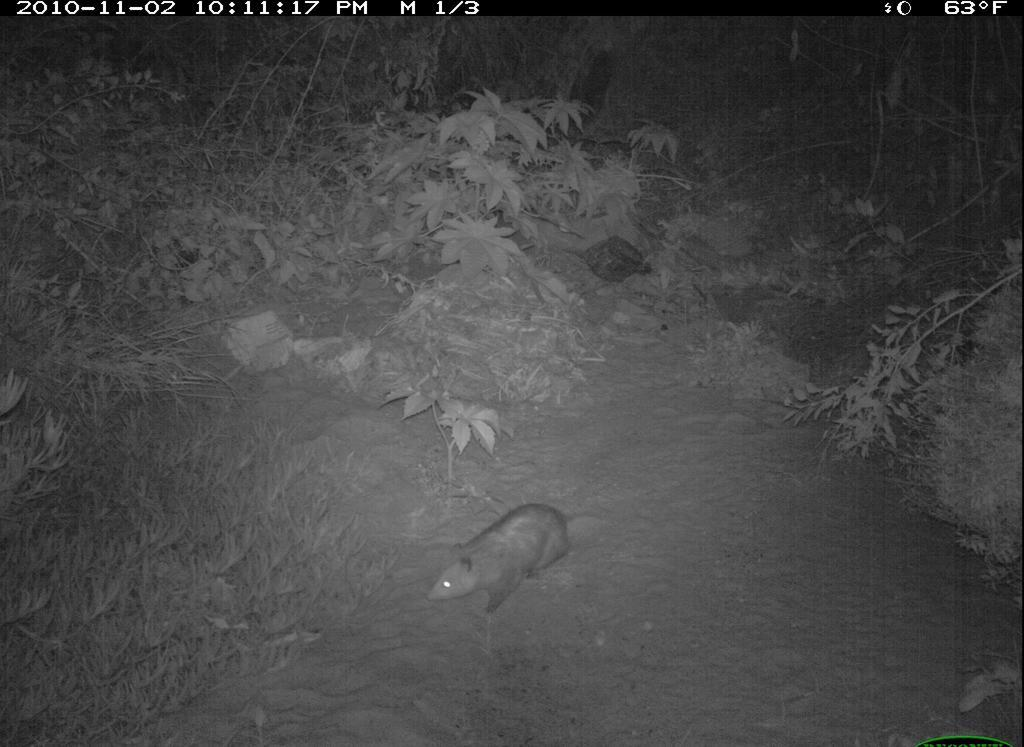opossum: (427, 500, 597, 623)
